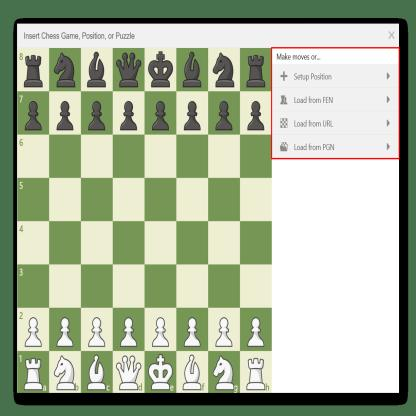black-bishop: (180, 48, 207, 90), (85, 49, 109, 90)
black-king: (146, 50, 176, 88)
black-knight: (52, 50, 78, 90), (212, 48, 236, 90)
black-pawn: (117, 96, 141, 133), (23, 96, 46, 132), (86, 96, 108, 133), (150, 97, 172, 134), (214, 94, 235, 132), (54, 96, 76, 132), (182, 96, 203, 133), (247, 97, 266, 132)
black-queen: (115, 50, 144, 88)
black-rook: (244, 51, 270, 90), (22, 51, 48, 87)
white-bishop: (180, 354, 204, 390), (86, 354, 108, 392)
white-king: (147, 353, 175, 392)
white-knight: (52, 352, 78, 392), (212, 354, 236, 392)
white-pawn: (246, 312, 268, 349), (22, 312, 43, 350), (55, 313, 76, 349), (214, 313, 234, 350), (87, 312, 107, 349), (119, 314, 139, 349), (184, 314, 202, 348), (152, 315, 170, 349)
white-queen: (116, 354, 144, 392)
white-rook: (245, 354, 268, 392), (21, 356, 45, 391)
